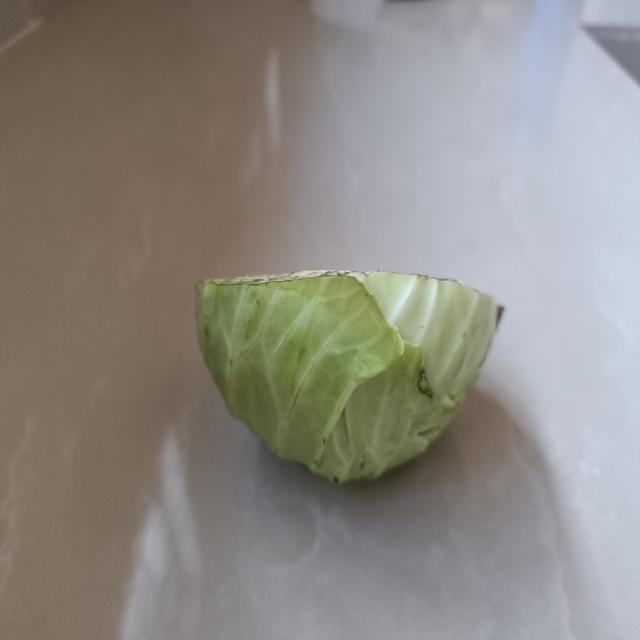cabbage: (190, 263, 507, 490)
